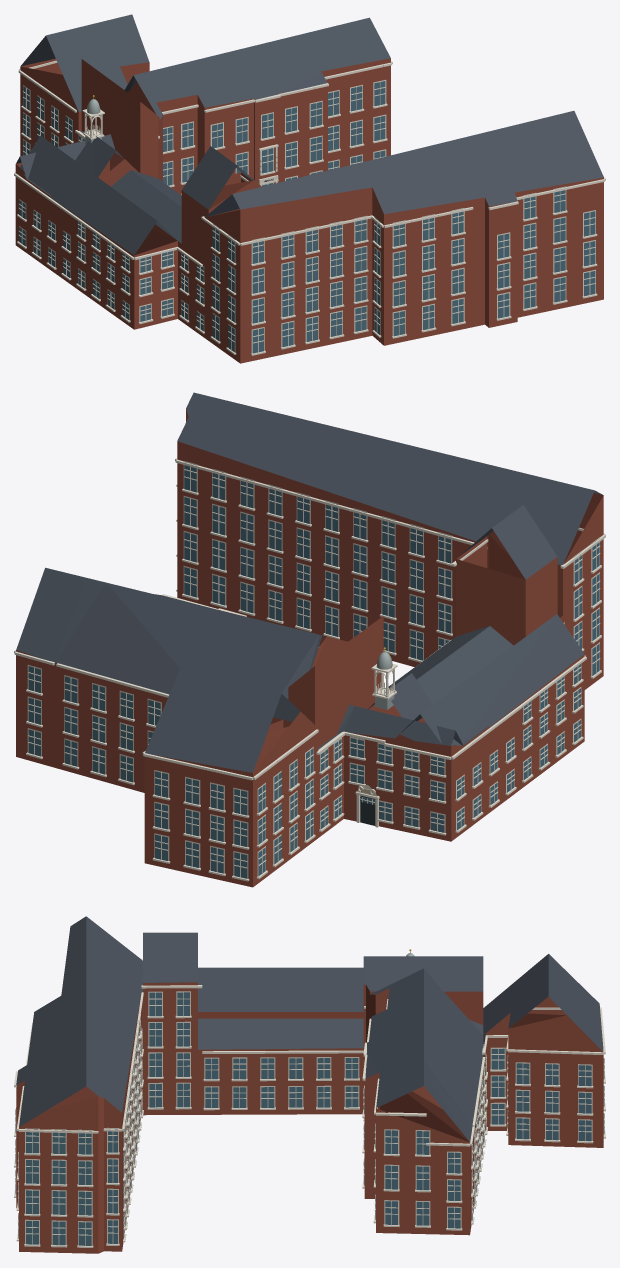
Rendered from sint-jorishof.glb.
3 renders of one model, top to bottom at view 1: azimuth 30°, elevation 25°; view 2: azimuth 150°, elevation 25°; view 3: azimuth 270°, elevation 25°, orthographic. The views are drawn at different scales.
Visible parts, largest first — view 1: sint-jorishof; view 2: sint-jorishof; view 3: sint-jorishof.
Part boxes in pixels (bbox=[...]): sint-jorishof: bbox=[14, 14, 605, 363]; sint-jorishof: bbox=[14, 392, 605, 887]; sint-jorishof: bbox=[14, 916, 605, 1253].
Size of the model in its own units: 50.41 by 20.05 by 64.35.
